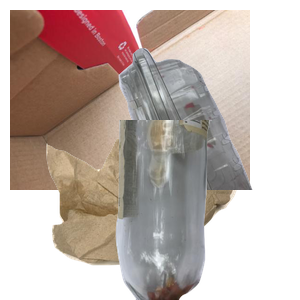cardboard: (10, 10, 250, 190)
glass: (113, 120, 300, 300)
plastic: (71, 45, 300, 225)
trash: (44, 136, 277, 300)
